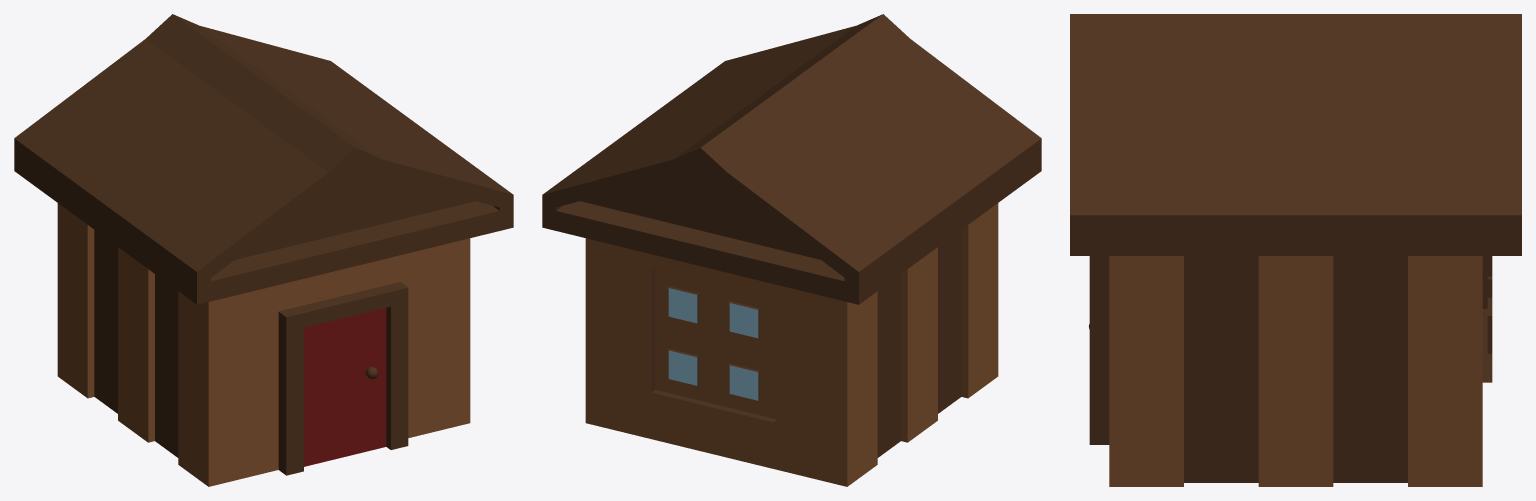
The model's file is shed_col.glb.
The picture shows the model from 3 angles, left to right: view 1: azimuth 30°, elevation 25°; view 2: azimuth 150°, elevation 25°; view 3: azimuth 270°, elevation 25°; orthographic projection. The views are drawn at different scales.
Parts seen in each view (by area): view 1: Roof.002-colonly, ShedBody.001-colonly, Door.001-colonly; view 2: Roof.002-colonly, ShedBody.001-colonly, Window.001-colonly; view 3: Roof.002-colonly, ShedBody.001-colonly, Door.001-colonly, Window.001-colonly.
Part boxes in pixels (x1,y1,x2,y2): Roof.002-colonly: [14, 14, 513, 304]; ShedBody.001-colonly: [57, 203, 470, 486]; Door.001-colonly: [278, 282, 408, 475]; Roof.002-colonly: [542, 14, 1041, 304]; ShedBody.001-colonly: [585, 203, 998, 486]; Window.001-colonly: [651, 265, 776, 422]; Roof.002-colonly: [1070, 14, 1521, 255]; ShedBody.001-colonly: [1109, 256, 1482, 486]; Door.001-colonly: [1089, 256, 1109, 444]; Window.001-colonly: [1482, 256, 1492, 382].
Size of the model in its own units: 4.58 by 4.41 by 4.58.
